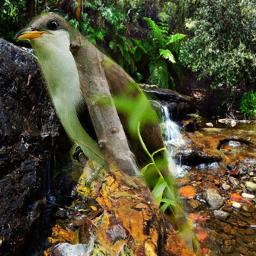Cuckoo: (8, 12, 210, 254)
